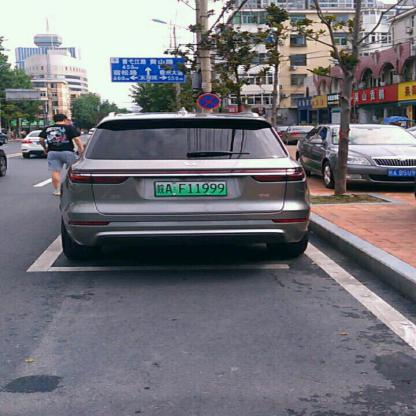lp: (155, 180, 226, 195)
